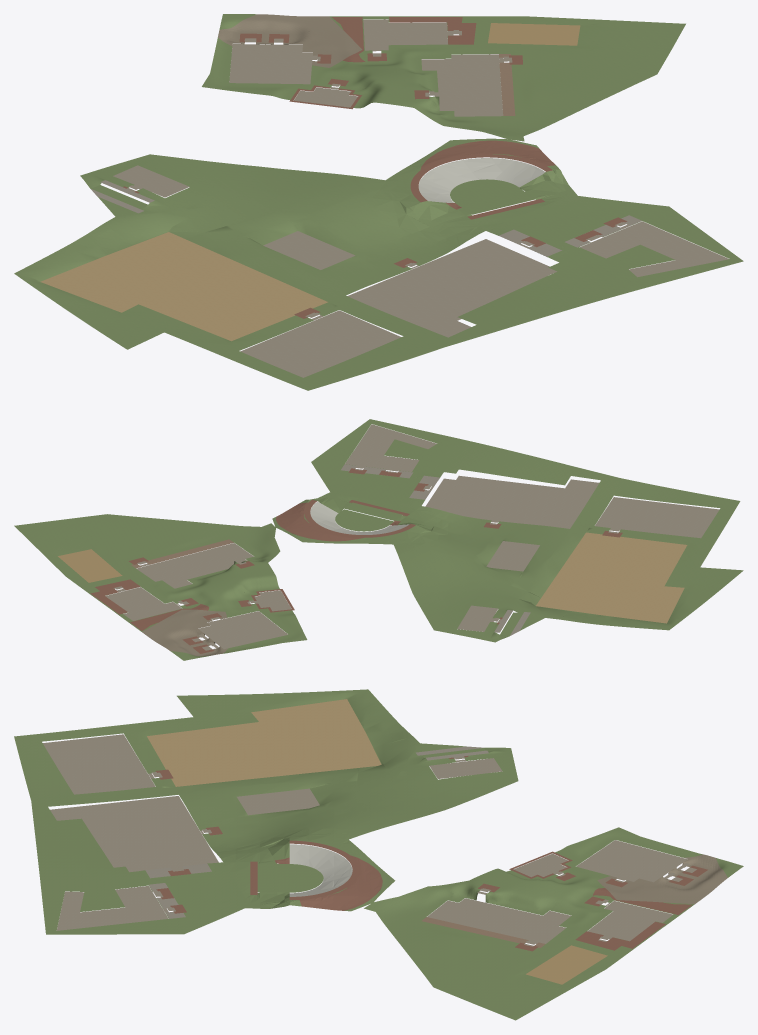
3 renders of one model, top to bottom at view 1: azimuth 30°, elevation 25°; view 2: azimuth 150°, elevation 25°; view 3: azimuth 270°, elevation 25°, orthographic. The views are drawn at different scales.
Visible parts, largest first — view 1: surface_school-garden-ground, surface_shared-field, surface_underbuilding-yugwansun, surface_amphitheatre-surround, surface_underbuilding-gym, surface_underbuilding-main, surface_centennial-courtyard, surface_garden-1221899432, surface_underbuilding-dorm, surface_main-front-garden, surface_underbuilding-centennial, surface_amphitheatre-steps-base (+13 smaller); view 2: surface_school-garden-ground, surface_shared-field, surface_underbuilding-yugwansun, surface_amphitheatre-surround, surface_underbuilding-gym, surface_underbuilding-main, surface_garden-1221899432, surface_centennial-courtyard, surface_main-front-garden, surface_underbuilding-dorm, surface_underbuilding-centennial, surface_underbuilding-simpson (+13 smaller); view 3: surface_school-garden-ground, surface_shared-field, surface_underbuilding-yugwansun, surface_amphitheatre-surround, surface_underbuilding-gym, surface_underbuilding-main, surface_centennial-courtyard, surface_garden-1221899432, surface_underbuilding-dorm, surface_main-front-garden, surface_underbuilding-centennial, surface_amphitheatre-steps-base (+13 smaller).
Part boxes in pixels (box(x1,y1,x2,y2)): surface_school-garden-ground: box(14, 14, 743, 390); surface_shared-field: box(40, 232, 327, 341); surface_underbuilding-yugwansun: box(347, 239, 556, 337); surface_amphitheatre-surround: box(355, 137, 582, 245); surface_underbuilding-gym: box(240, 310, 401, 377); surface_underbuilding-main: box(421, 54, 503, 116); surface_centennial-courtyard: box(218, 14, 362, 67); surface_garden-1221899432: box(501, 196, 649, 254); surface_underbuilding-dorm: box(580, 221, 729, 277); surface_main-front-garden: box(488, 59, 581, 121); surface_underbuilding-centennial: box(229, 44, 312, 84); surface_amphitheatre-steps-base: box(418, 158, 545, 202); surface_school-garden-ground: box(14, 419, 743, 660); surface_shared-field: box(536, 532, 687, 623); surface_underbuilding-yugwansun: box(425, 475, 599, 528); surface_amphitheatre-surround: box(272, 490, 448, 555); surface_underbuilding-gym: box(595, 497, 719, 538); surface_underbuilding-main: box(136, 543, 253, 588); surface_garden-1221899432: box(316, 465, 433, 500); surface_centennial-courtyard: box(142, 609, 227, 656); surface_main-front-garden: box(126, 527, 248, 560); surface_underbuilding-dorm: box(345, 424, 436, 471); surface_underbuilding-centennial: box(198, 611, 288, 649); surface_underbuilding-simpson: box(105, 587, 182, 620); surface_school-garden-ground: box(14, 689, 743, 1020); surface_shared-field: box(147, 699, 381, 786); surface_underbuilding-yugwansun: box(50, 796, 218, 872); surface_amphitheatre-surround: box(216, 828, 387, 911); surface_underbuilding-gym: box(43, 734, 155, 794); surface_underbuilding-main: box(427, 898, 571, 943); surface_centennial-courtyard: box(597, 854, 727, 904); surface_garden-1221899432: box(144, 866, 240, 928); surface_underbuilding-dorm: box(56, 886, 168, 930); surface_main-front-garden: box(398, 909, 524, 958); surface_underbuilding-centennial: box(576, 840, 687, 882); surface_amphitheatre-steps-base: box(289, 844, 352, 896).
Bounding box in the file's own units: 325 × 8.38 × 297.
9 materials, 8 textured.
